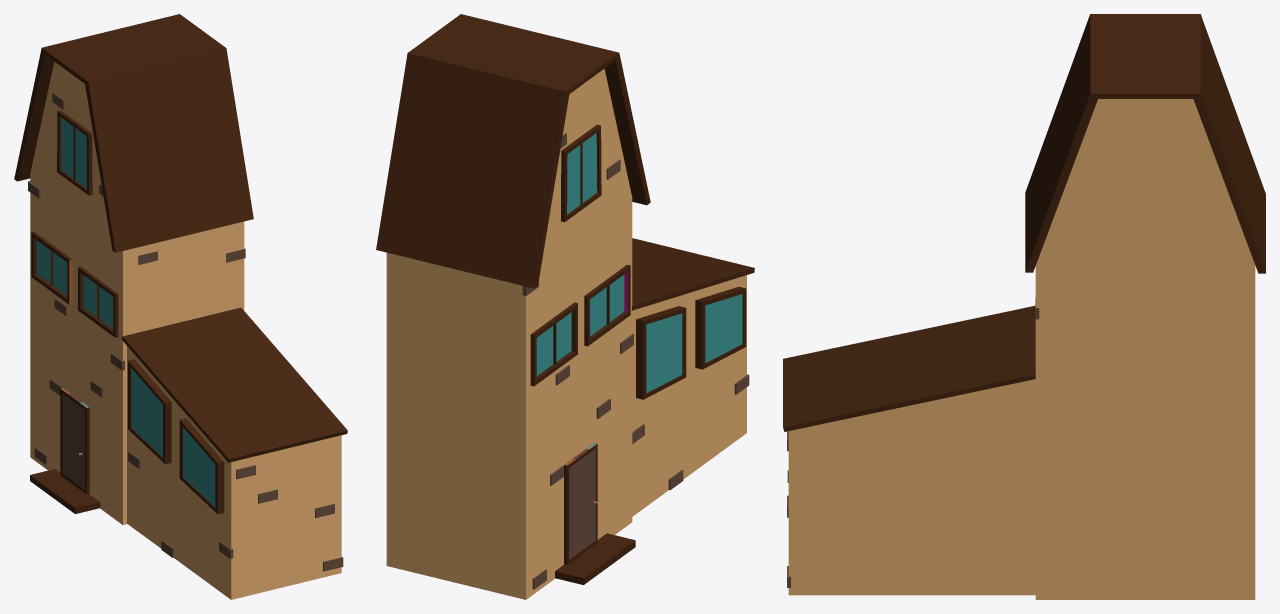
File: Casa03_colorida.fbx
3 views of the same model, side by side, from view 1: azimuth 30°, elevation 25°; view 2: azimuth 150°, elevation 25°; view 3: azimuth 270°, elevation 25° (orthographic). The views are drawn at different scales.
Parts seen in each view (by area): view 1: Plane.005; view 2: Plane.005; view 3: Plane.005.
Part boxes in pixels (x1,y1,x2,y2): Plane.005: (14,14,347,599); Plane.005: (376,14,754,599); Plane.005: (783,14,1265,599).
Bounding box in the file's own units: 561 × 1515 × 1302.
Materials: 1 (1 with a texture image).
